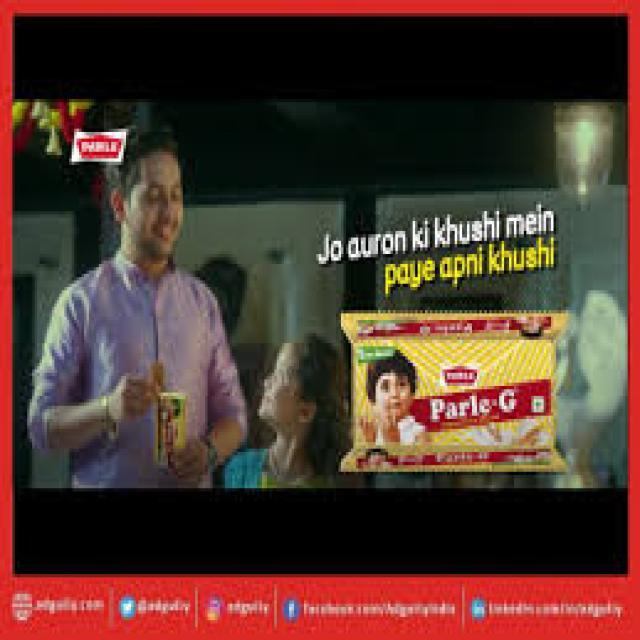parle-g: (342, 314, 564, 473)
